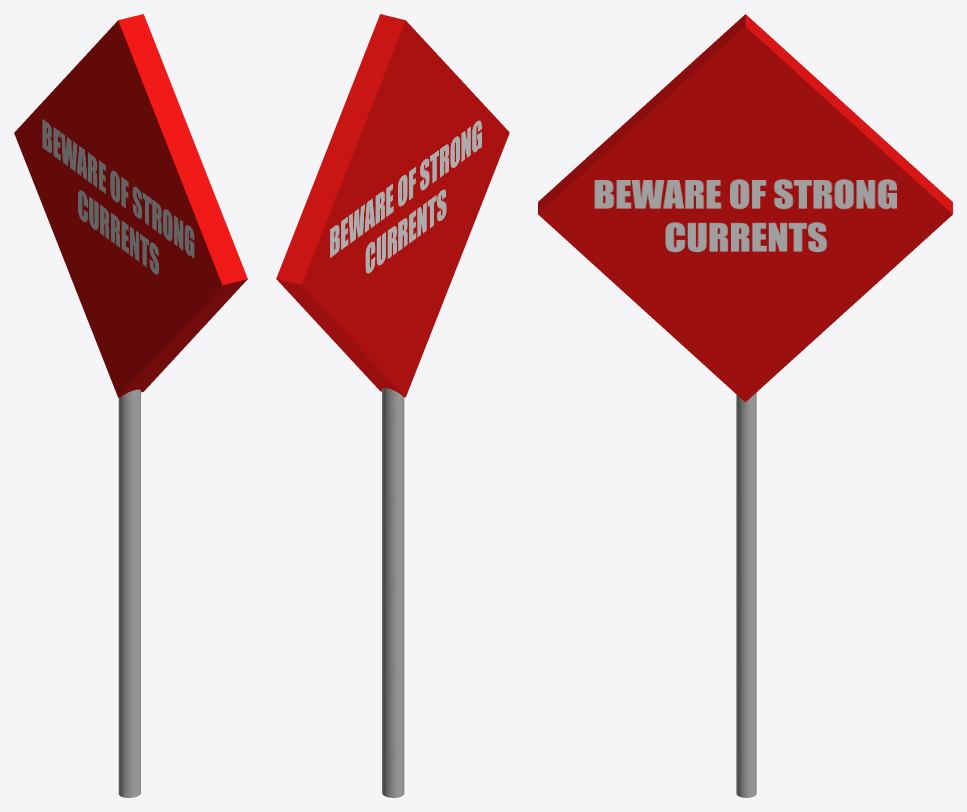
Rendered from current_sign.FBX.
The picture shows the model from 3 angles, left to right: view 1: azimuth 30°, elevation 25°; view 2: azimuth 150°, elevation 25°; view 3: azimuth 270°, elevation 25°; orthographic projection.
Parts seen in each view (by area): view 1: Box001, Cylinder001; view 2: Box001, Cylinder001; view 3: Box001, Cylinder001.
Boxes of the visible parts, x1=… form: Box001: x1=14, y1=14, x2=247, y2=397; Cylinder001: x1=118, y1=389, x2=140, y2=797; Box001: x1=276, y1=14, x2=509, y2=397; Cylinder001: x1=382, y1=388, x2=404, y2=797; Box001: x1=538, y1=14, x2=952, y2=402; Cylinder001: x1=736, y1=392, x2=756, y2=797.
Size of the model in its own units: 2 by 58.15 by 28.28.
